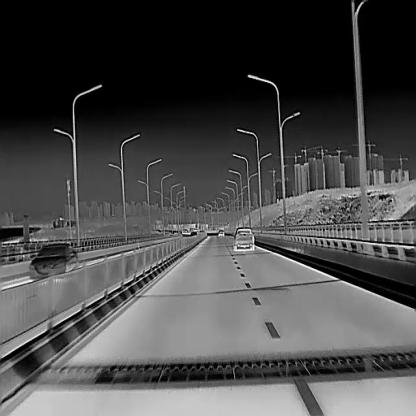car: (28, 241, 78, 278), (233, 226, 254, 249), (218, 229, 223, 237), (181, 228, 188, 233), (190, 230, 196, 235)
